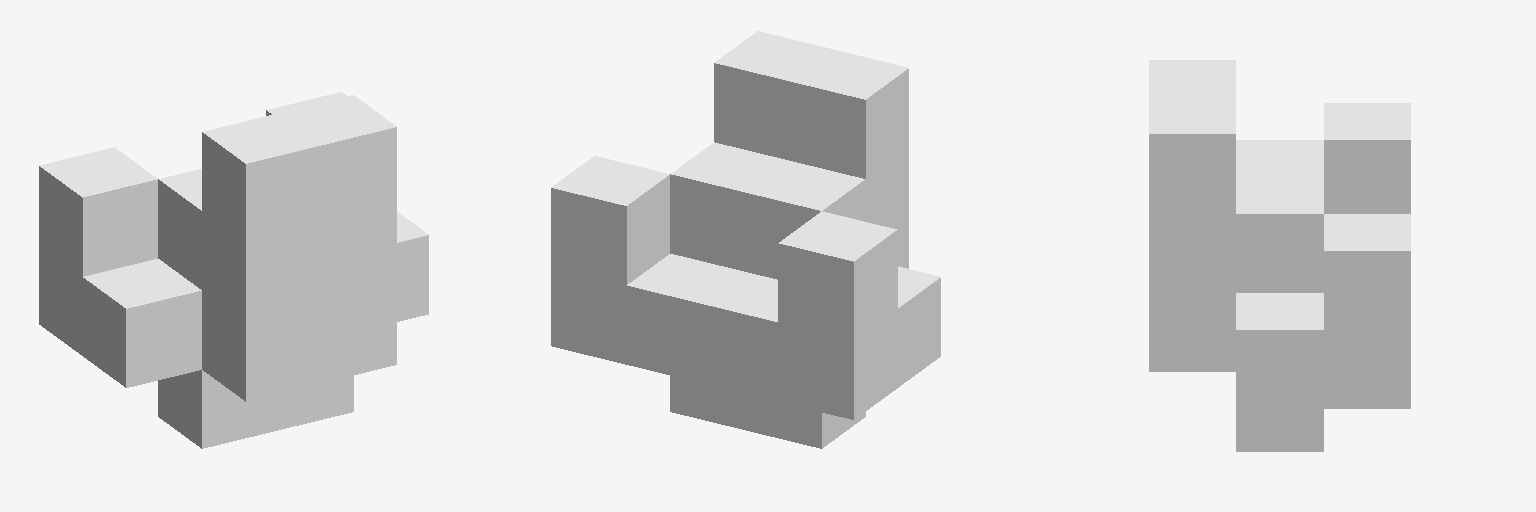
File: Leg-12.obj
3 renders of one model, left to right at view 1: azimuth 30°, elevation 25°; view 2: azimuth 150°, elevation 25°; view 3: azimuth 270°, elevation 25°, orthographic.
Visible parts, largest first — view 1: object 1; view 2: object 1; view 3: object 1.
Boxes of the visible parts, x1=… form: object 1: x1=39, y1=92, x2=428, y2=448; object 1: x1=551, y1=31, x2=940, y2=448; object 1: x1=1149, y1=60, x2=1410, y2=451.
Size of the model in its own units: 0.4 by 0.4 by 0.3.